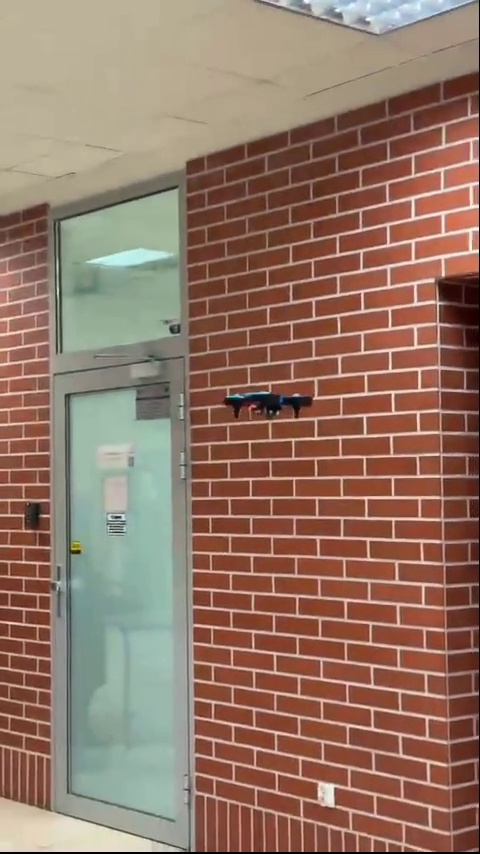drone: (226, 387, 313, 418)
